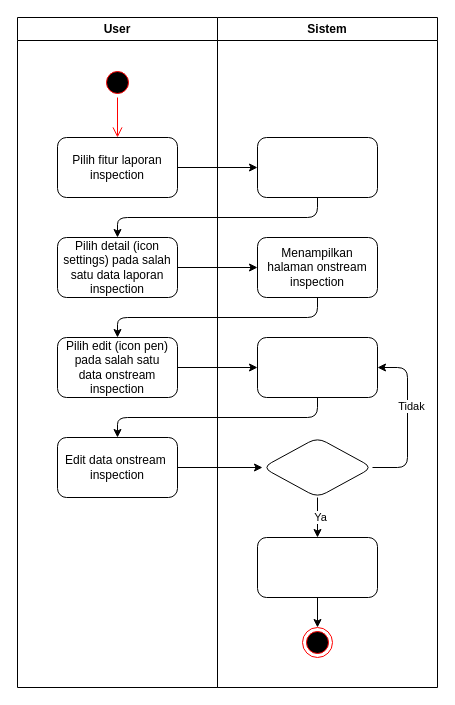
This 455x705 diagram has some shape labels left out. The centre of each missing label's shape, as x and y in pixels:
"Menampilkan halaman edit data onstream inspection" goes at point (317, 367).
"Menampilkan halaman laporan inspection" goes at point (317, 167).
"Perubahan data berhasil tersimpan" goes at point (317, 567).
"Validasi data" goes at point (317, 467).
